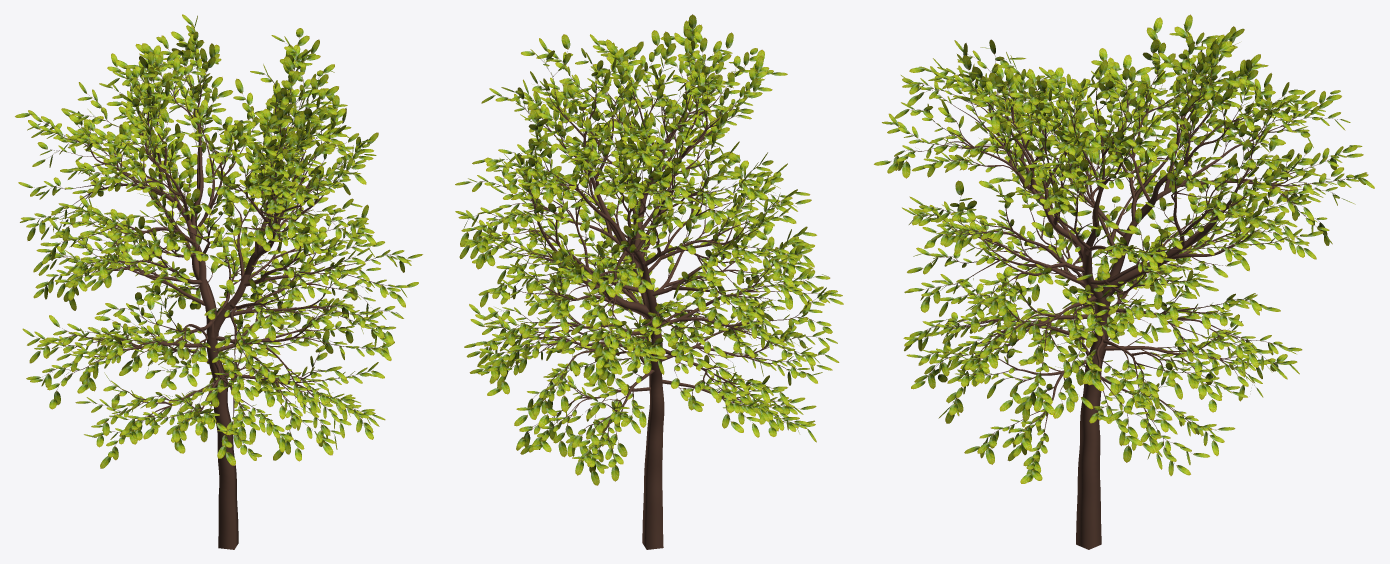
Rendered from Damar batu.fbx.
3 views of the same model, side by side, from view 1: azimuth 30°, elevation 25°; view 2: azimuth 150°, elevation 25°; view 3: azimuth 270°, elevation 25° (orthographic). The views are drawn at different scales.
Parts seen in each view (by area): view 1: leaves; view 2: leaves; view 3: leaves.
Boxes of the visible parts, x1,y1,x2,y2 form: leaves: [15, 14, 422, 549]; leaves: [455, 14, 843, 549]; leaves: [874, 14, 1374, 549].
Size of the model in its own units: 1254 by 1715 by 1505.
Materials: 2 (1 with a texture image).
